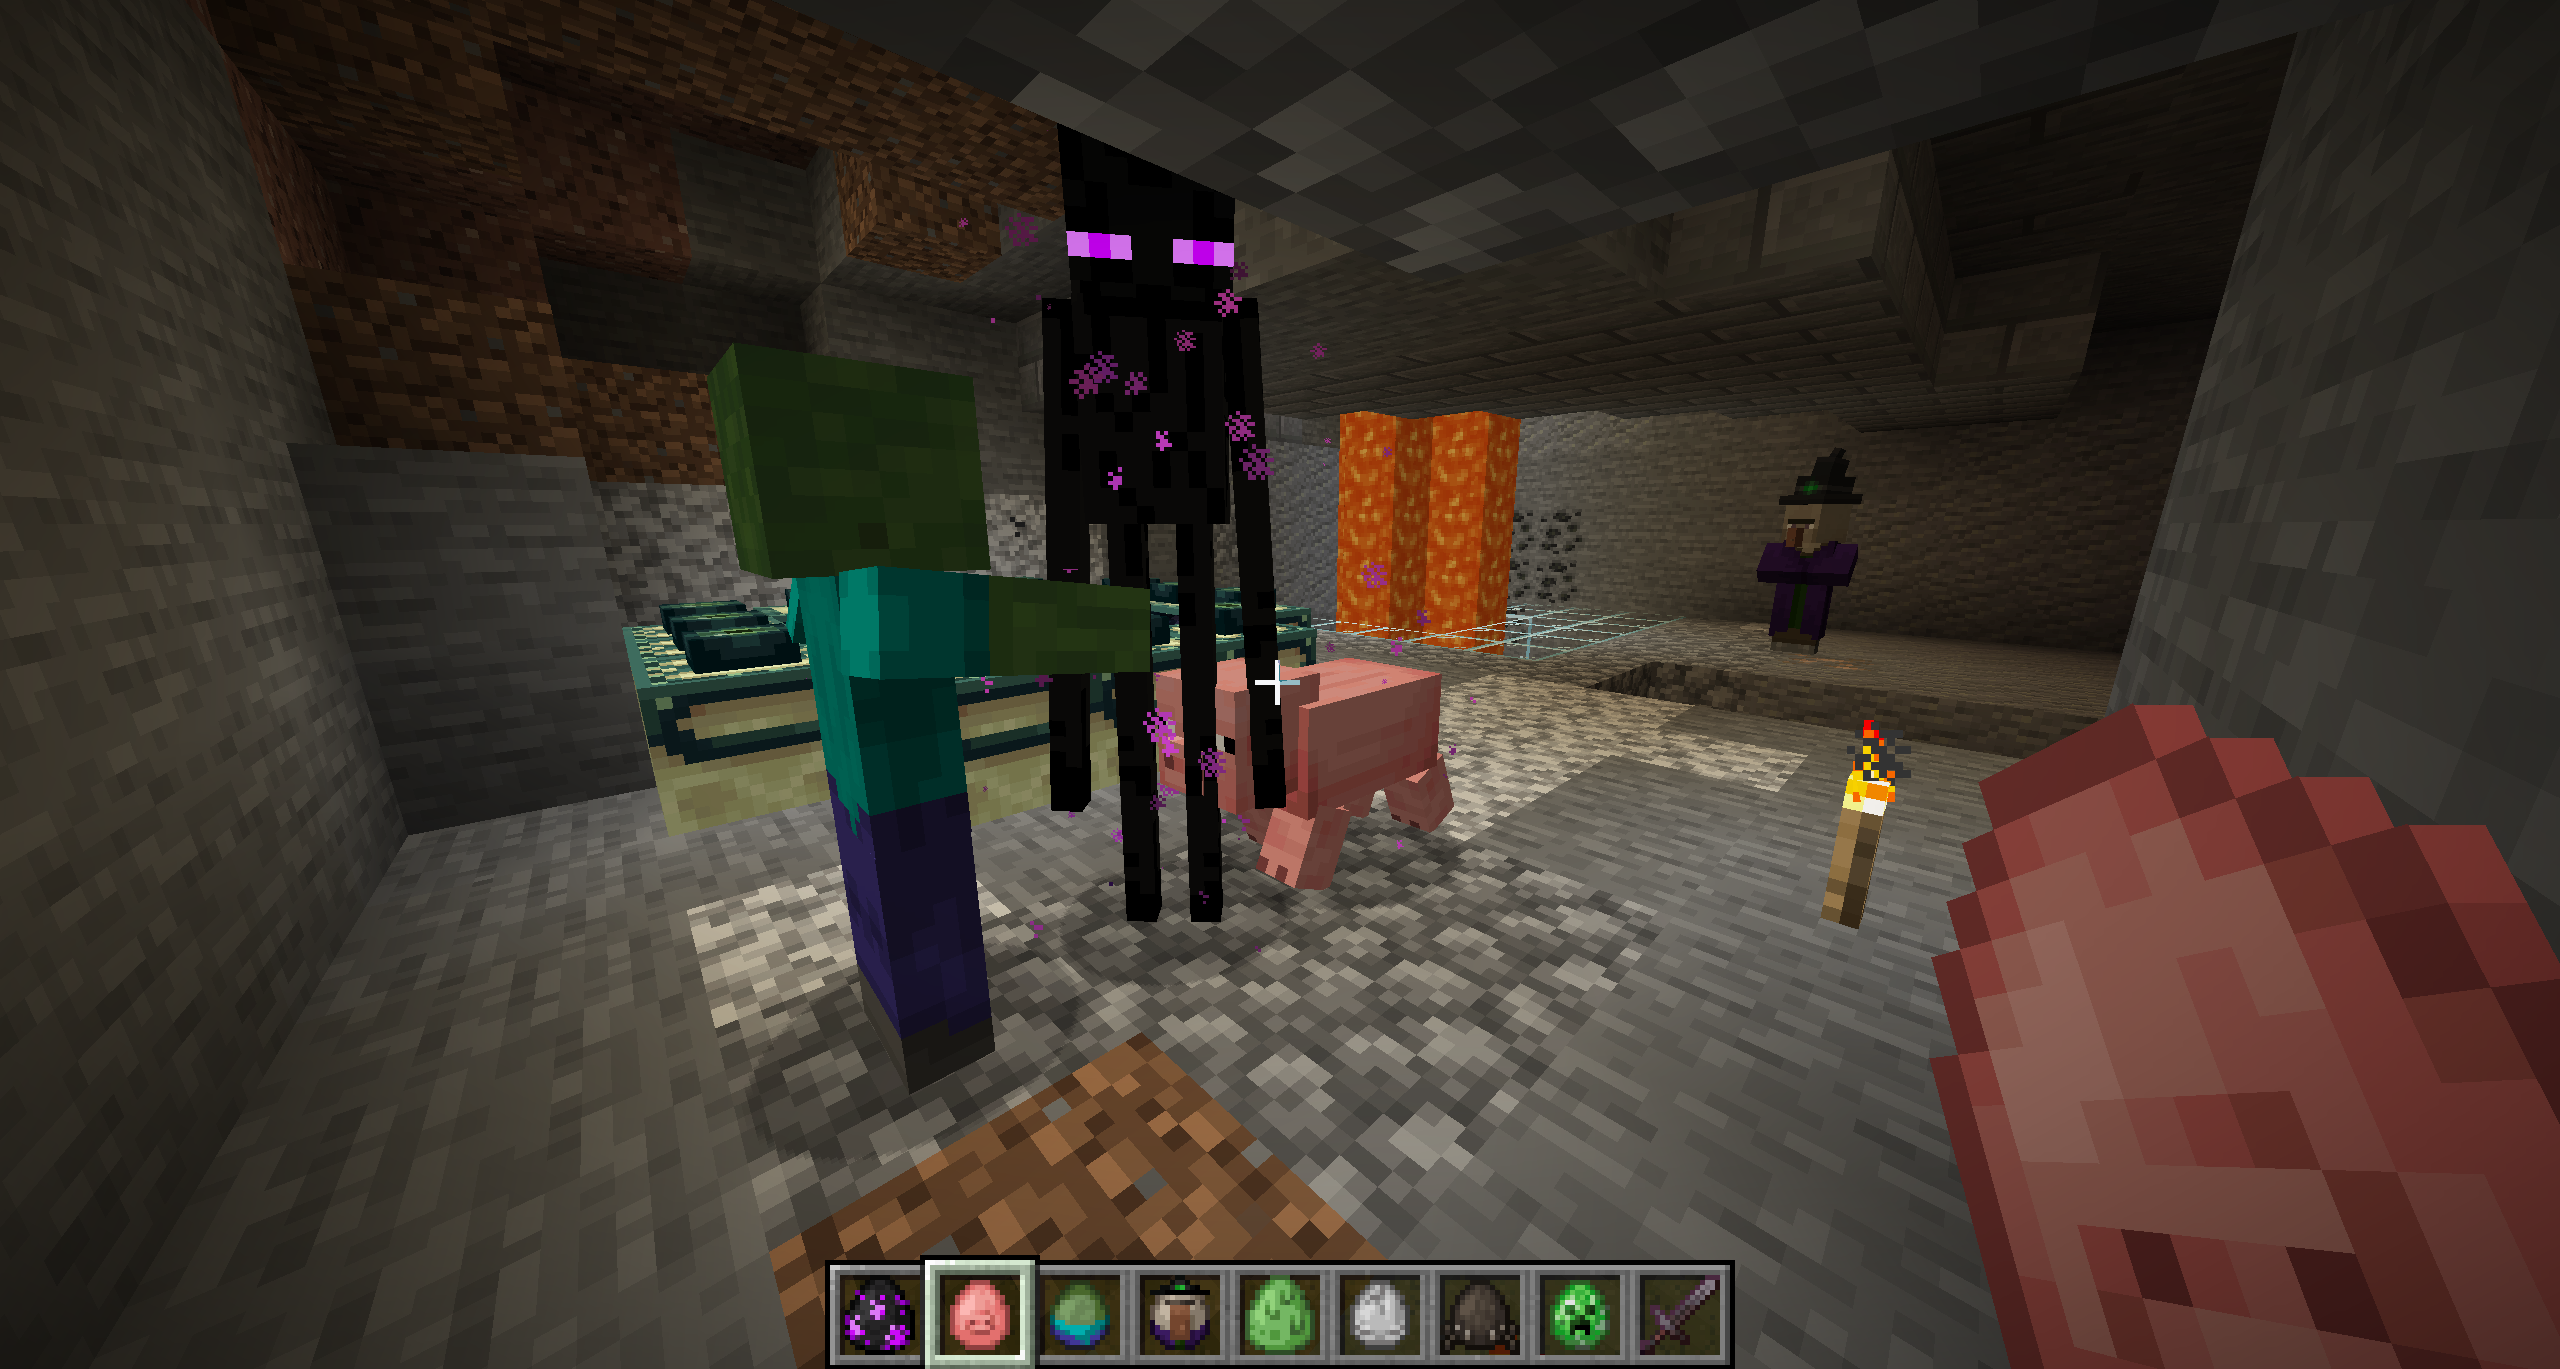cochons: (1150, 657, 1480, 858)
endermens: (1034, 113, 1278, 931)
sorcieres: (1761, 447, 1866, 662)
zombies: (699, 338, 1023, 1075)
